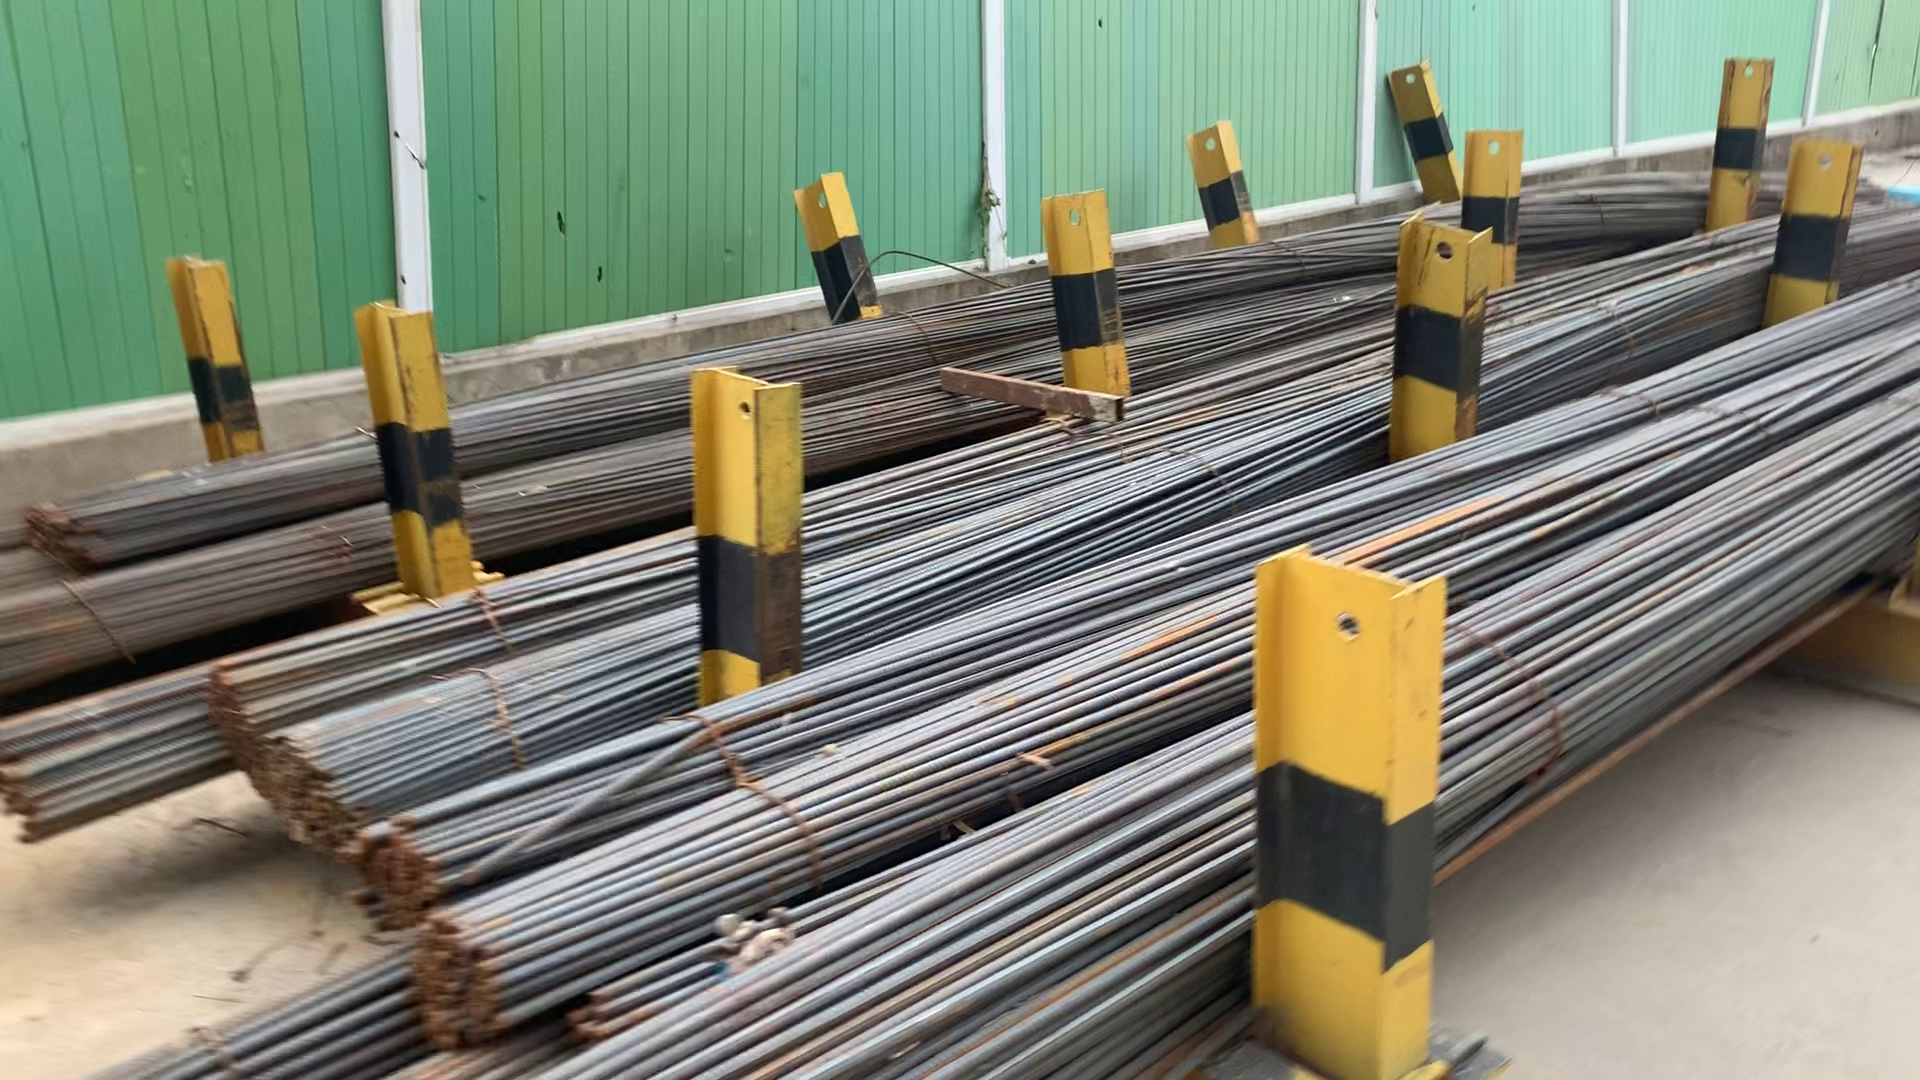rebar: (415, 914, 502, 1044), (203, 658, 265, 806), (274, 738, 349, 849), (363, 831, 438, 934), (26, 492, 95, 575)
